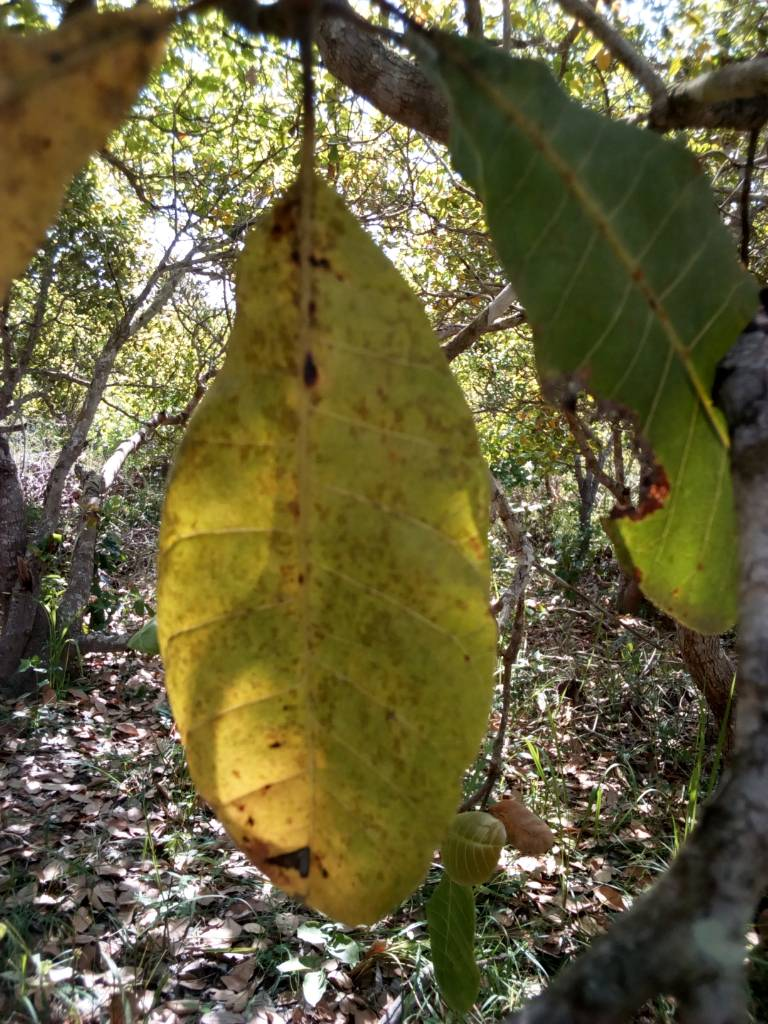Bactériose: (157, 166, 486, 933), (516, 128, 744, 621)
